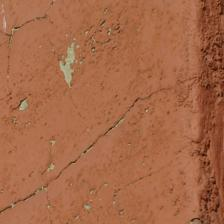Crack: (119, 18, 224, 85), (27, 13, 171, 50)
